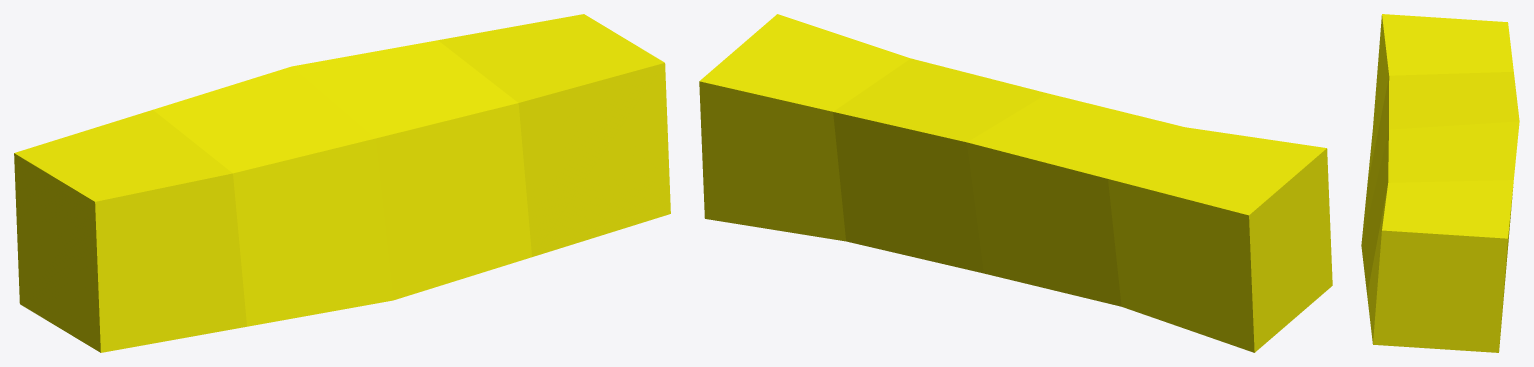
File: Butter Stick.fbx
3 views of the same model, side by side, from view 1: azimuth 30°, elevation 25°; view 2: azimuth 150°, elevation 25°; view 3: azimuth 270°, elevation 25° (orthographic). The views are drawn at different scales.
Visible parts, largest first — view 1: Butter Stick; view 2: Butter Stick; view 3: Butter Stick.
Boxes of the visible parts, x1,y1,x2,y2 form: Butter Stick: [14, 14, 670, 352]; Butter Stick: [699, 14, 1332, 352]; Butter Stick: [1361, 14, 1519, 352].
Size of the model in its own units: 10.6 by 2.84 by 3.27.
